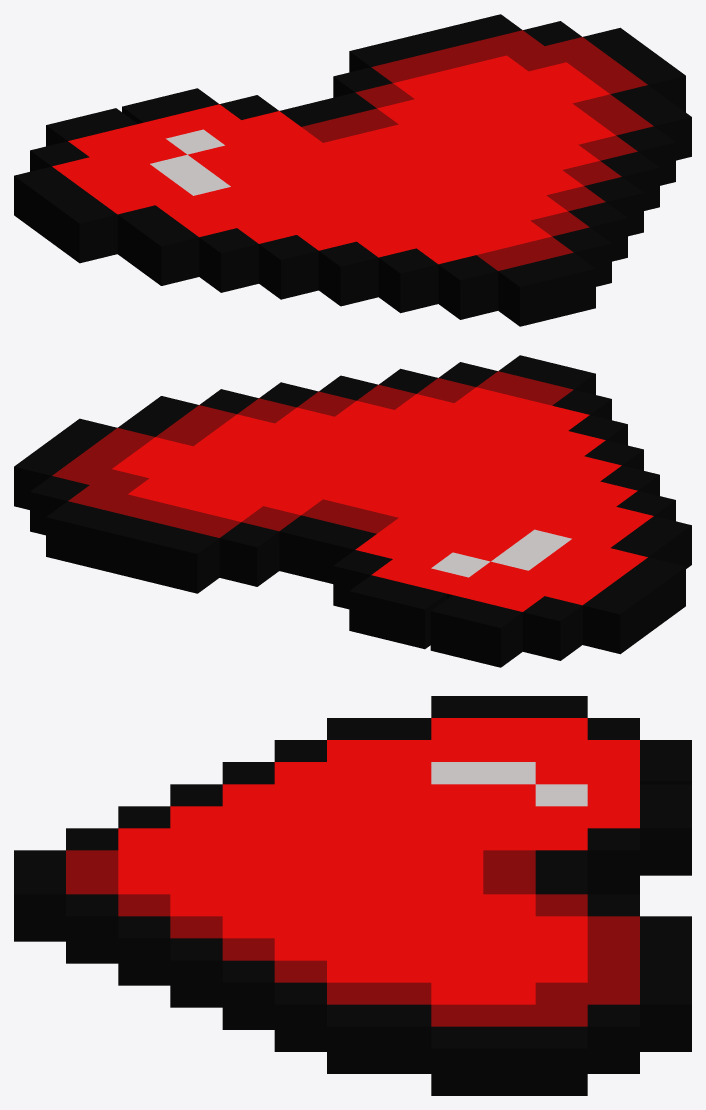
Rendered from heart.gltf.
The picture shows the model from 3 angles, top to bottom: view 1: azimuth 30°, elevation 25°; view 2: azimuth 150°, elevation 25°; view 3: azimuth 270°, elevation 25°; orthographic projection. The views are drawn at different scales.
Visible parts, largest first — view 1: df352018-c42d-0507-acd9-177d2dd17cd0, 9f7b1074-8535-1f41-ef6e-82f3ae181806, 707300f6-ec31-d696-ac60-24a279dda2e1, 4e3559ab-b230-5d79-04de-c0d743c895fd, 151c43bb-2e08-719f-f479-ef9e04fcf63a, f08f69dd-5c4e-56c9-cd3d-778d66ac589e, d78fb8f6-72c1-fbae-5e2f-02a4f983637e, c325891d-ba82-69ba-1cde-d4b6350949ef, 5b87979d-e2e2-aff9-b325-e77128266c6c, 6418ef2b-d372-862e-43a6-9bc6b94caf0a, 06f1e207-84a7-5e25-ef41-83eef7bf59c8, 3d92335d-7aec-606a-29d6-d9c35268fc0c (+126 smaller); view 2: d42b34a6-e30a-e380-2968-2f3ffbb13408, 94272d48-52c0-cb39-fb13-3c4db4c09d4b, 06f1e207-84a7-5e25-ef41-83eef7bf59c8, b5771650-5aa5-9724-44e7-6681c848fdc7, a880ab25-b70b-7236-98a5-b3eb07272af9, 2b75869c-aadd-a5db-f07f-0a75b9220787, c001a3c0-3ef3-e508-d21c-b8e7d8404146, 1fbf10aa-0f22-126a-d5a1-53b7f3b0f10c, 80961079-0e5a-7467-9149-d8daaee5ba9d, a731d3f5-010b-7d55-3785-b3c502e6035c, 38bb4776-037a-f17f-9f66-4ec93df4ab01, 1a8eb578-492c-e12f-0a40-823445a817ee (+126 smaller); view 3: d678054c-ebaf-2db8-db17-602d78286b6a, 207e2607-86e6-1515-0481-4dd5f33c49be, cee14375-30d0-342a-75af-de165642ead5, b504926a-8626-a95a-6cf3-60a376f3de08, 3126551e-f7e3-12a2-f06c-e1cbf46ef118, 7488caf0-1fea-c845-791b-22a82f94bd73, 11a7eecd-be2a-31f0-1317-3cf78b45176b, 17b1c4e4-cf02-aadb-43f0-3ca64ae8ce0b, 3b6ca8f8-1976-3adc-acc0-06f08ce288df, fd017fe2-c122-9e9b-df22-12bac067b02f, 064b05dd-799e-f9de-f316-41b45a28a95f, c001a3c0-3ef3-e508-d21c-b8e7d8404146 (+126 smaller).
Part boxes in pixels (x1=…): df352018-c42d-0507-acd9-177d2dd17cd0: x1=318, y1=241, x2=378, y2=306; 9f7b1074-8535-1f41-ef6e-82f3ae181806: x1=57, y1=198, x2=117, y2=263; 707300f6-ec31-d696-ac60-24a279dda2e1: x1=139, y1=221, x2=199, y2=285; 4e3559ab-b230-5d79-04de-c0d743c895fd: x1=438, y1=255, x2=498, y2=319; 151c43bb-2e08-719f-f479-ef9e04fcf63a: x1=378, y1=248, x2=438, y2=313; f08f69dd-5c4e-56c9-cd3d-778d66ac589e: x1=199, y1=228, x2=258, y2=292; d78fb8f6-72c1-fbae-5e2f-02a4f983637e: x1=259, y1=235, x2=318, y2=299; c325891d-ba82-69ba-1cde-d4b6350949ef: x1=498, y1=262, x2=557, y2=326; 5b87979d-e2e2-aff9-b325-e77128266c6c: x1=536, y1=252, x2=595, y2=317; 6418ef2b-d372-862e-43a6-9bc6b94caf0a: x1=117, y1=205, x2=176, y2=269; 06f1e207-84a7-5e25-ef41-83eef7bf59c8: x1=14, y1=166, x2=73, y2=230; 3d92335d-7aec-606a-29d6-d9c35268fc0c: x1=36, y1=182, x2=95, y2=246; d42b34a6-e30a-e380-2968-2f3ffbb13408: x1=159, y1=529, x2=219, y2=593; 94272d48-52c0-cb39-fb13-3c4db4c09d4b: x1=219, y1=522, x2=279, y2=586; 06f1e207-84a7-5e25-ef41-83eef7bf59c8: x1=582, y1=589, x2=642, y2=654; b5771650-5aa5-9724-44e7-6681c848fdc7: x1=522, y1=596, x2=582, y2=660; a880ab25-b70b-7236-98a5-b3eb07272af9: x1=463, y1=603, x2=522, y2=667; 2b75869c-aadd-a5db-f07f-0a75b9220787: x1=387, y1=584, x2=446, y2=649; c001a3c0-3ef3-e508-d21c-b8e7d8404146: x1=349, y1=575, x2=408, y2=639; 1fbf10aa-0f22-126a-d5a1-53b7f3b0f10c: x1=279, y1=515, x2=338, y2=579; 80961079-0e5a-7467-9149-d8daaee5ba9d: x1=430, y1=595, x2=489, y2=659; a731d3f5-010b-7d55-3785-b3c502e6035c: x1=122, y1=519, x2=180, y2=584; 38bb4776-037a-f17f-9f66-4ec93df4ab01: x1=84, y1=510, x2=142, y2=575; 1a8eb578-492c-e12f-0a40-823445a817ee: x1=46, y1=501, x2=105, y2=565; d678054c-ebaf-2db8-db17-602d78286b6a: x1=118, y1=916, x2=170, y2=985; 207e2607-86e6-1515-0481-4dd5f33c49be: x1=170, y1=938, x2=222, y2=1007; cee14375-30d0-342a-75af-de165642ead5: x1=483, y1=1026, x2=535, y2=1095; b504926a-8626-a95a-6cf3-60a376f3de08: x1=66, y1=894, x2=118, y2=963; 3126551e-f7e3-12a2-f06c-e1cbf46ef118: x1=222, y1=960, x2=274, y2=1029; 7488caf0-1fea-c845-791b-22a82f94bd73: x1=274, y1=982, x2=326, y2=1051; 11a7eecd-be2a-31f0-1317-3cf78b45176b: x1=379, y1=1004, x2=431, y2=1073; 17b1c4e4-cf02-aadb-43f0-3ca64ae8ce0b: x1=431, y1=1026, x2=483, y2=1095; 3b6ca8f8-1976-3adc-acc0-06f08ce288df: x1=535, y1=1026, x2=587, y2=1095; fd017fe2-c122-9e9b-df22-12bac067b02f: x1=587, y1=1004, x2=639, y2=1073; 064b05dd-799e-f9de-f316-41b45a28a95f: x1=327, y1=1004, x2=378, y2=1073; c001a3c0-3ef3-e508-d21c-b8e7d8404146: x1=640, y1=806, x2=691, y2=875.
Size of the model in its own units: 1 by 0.0625 by 0.8125.
1 material, 1 textured.
